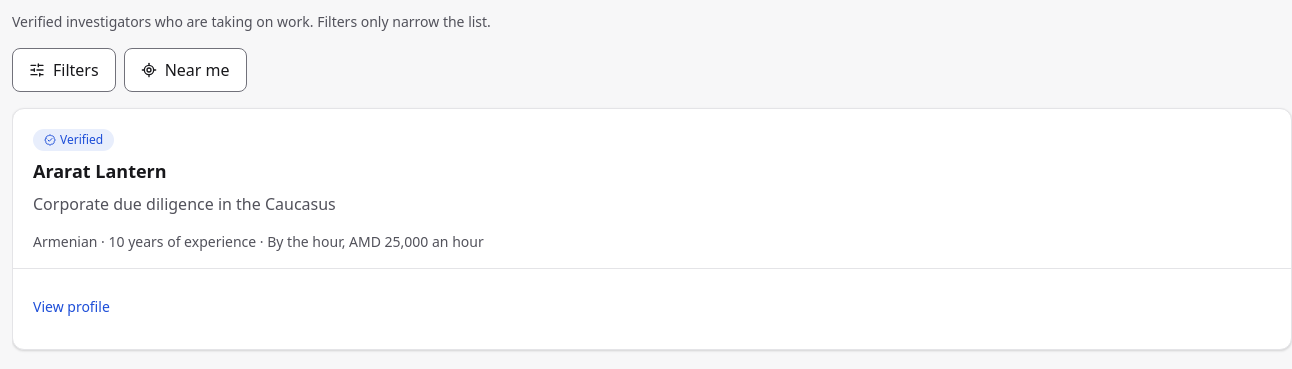
Test: finding investigators › near me › shows it is looking while the device has not answered
Click the button "Near me": coordinates (185, 70) [124,48,246,92]
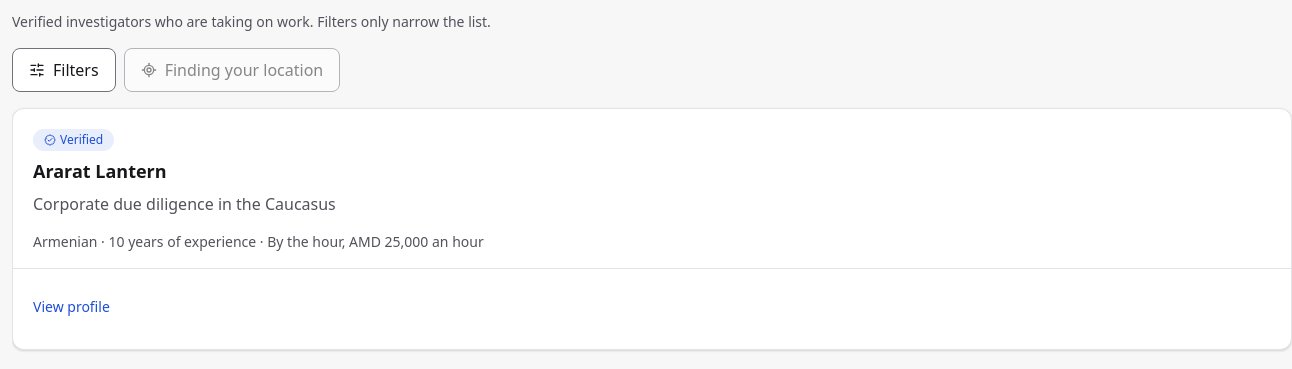
Result: the button "Finding your location" is disabled at [124,48,340,92]
